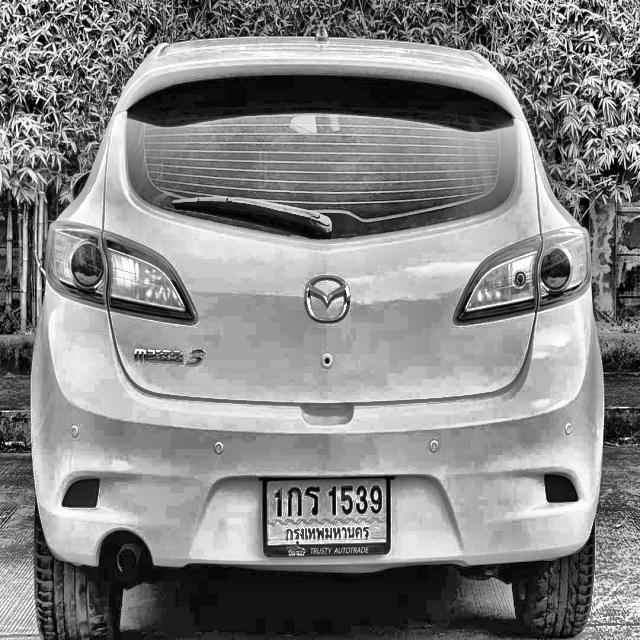license-plate: (262, 476, 393, 560)
